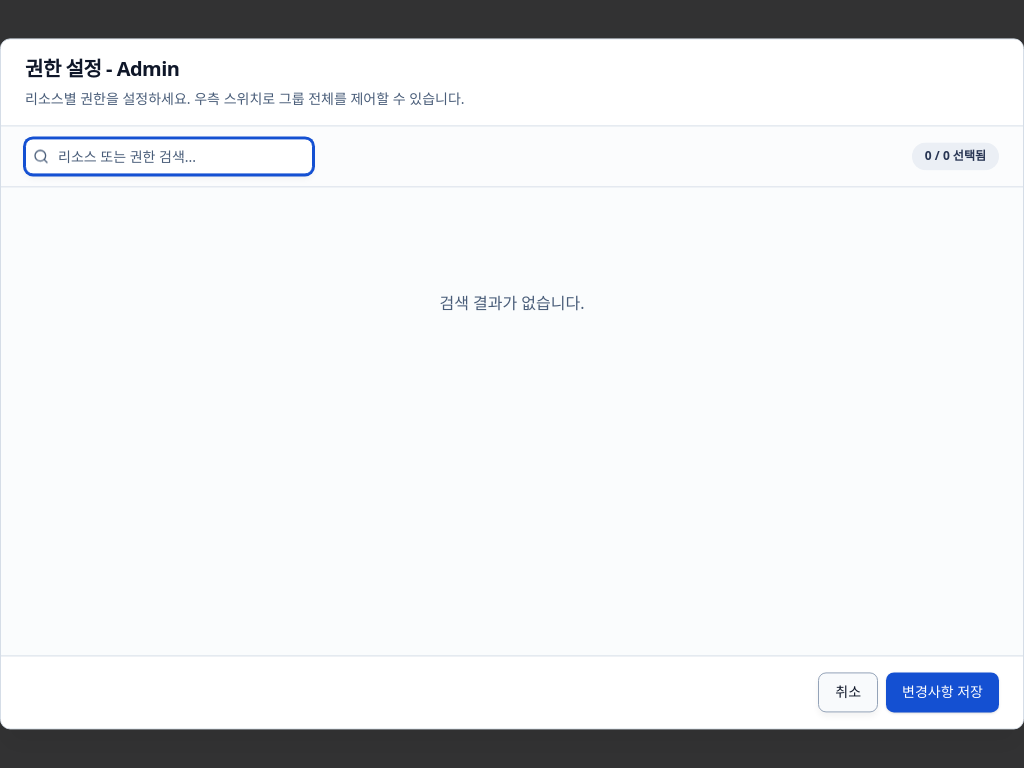
Test case: PermissionBoard Search Component › clears input when clear button is clicked
The image size is (1024, 768).
Type "users" into the field with placeholder "리소스 또는 권한 검색..." at [169, 156], box top-left (25, 138), bottom-right (313, 174)
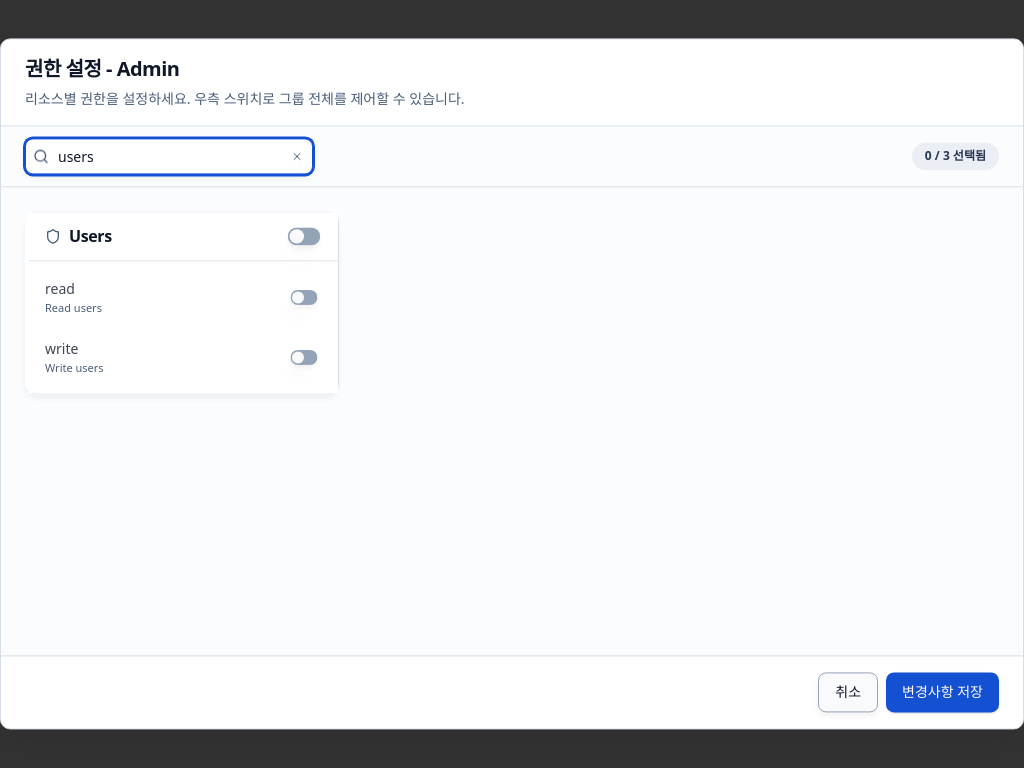
Click the button named "검색어 초기화" at [297, 156], box top-left (289, 148), bottom-right (305, 164)
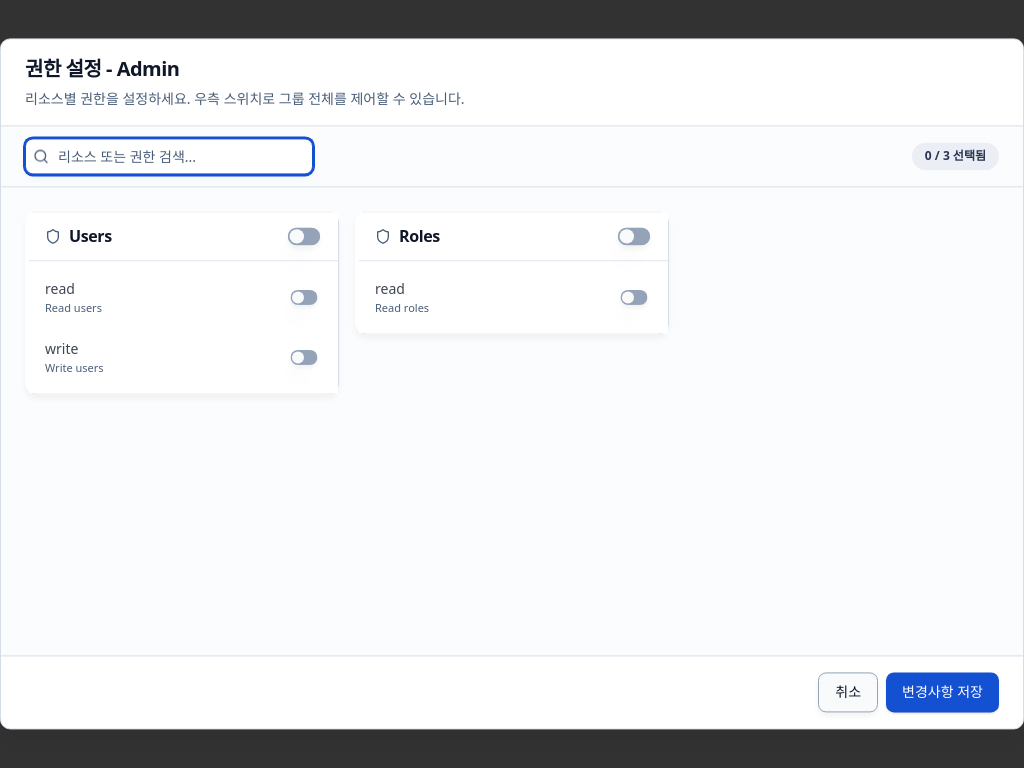
Expected: the field with placeholder "리소스 또는 권한 검색..." is empty, top-left (25, 138), bottom-right (313, 174)
